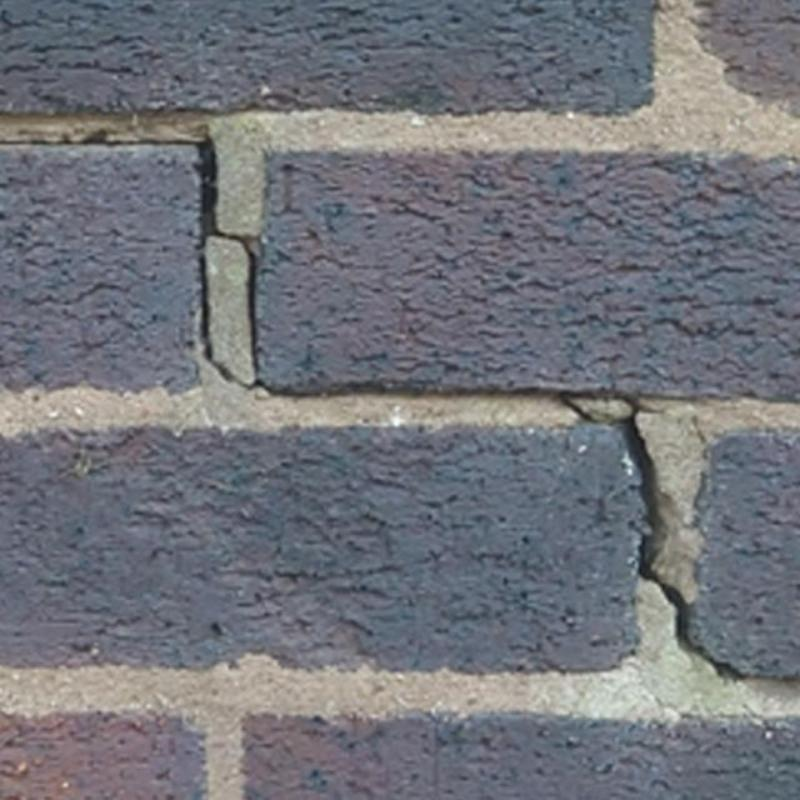crack: (556, 391, 749, 680), (188, 135, 273, 397), (0, 138, 189, 146)
